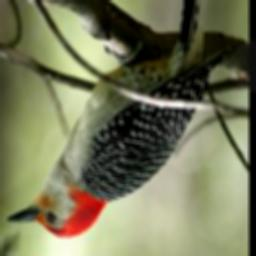Woodpecker: (7, 0, 226, 240)
